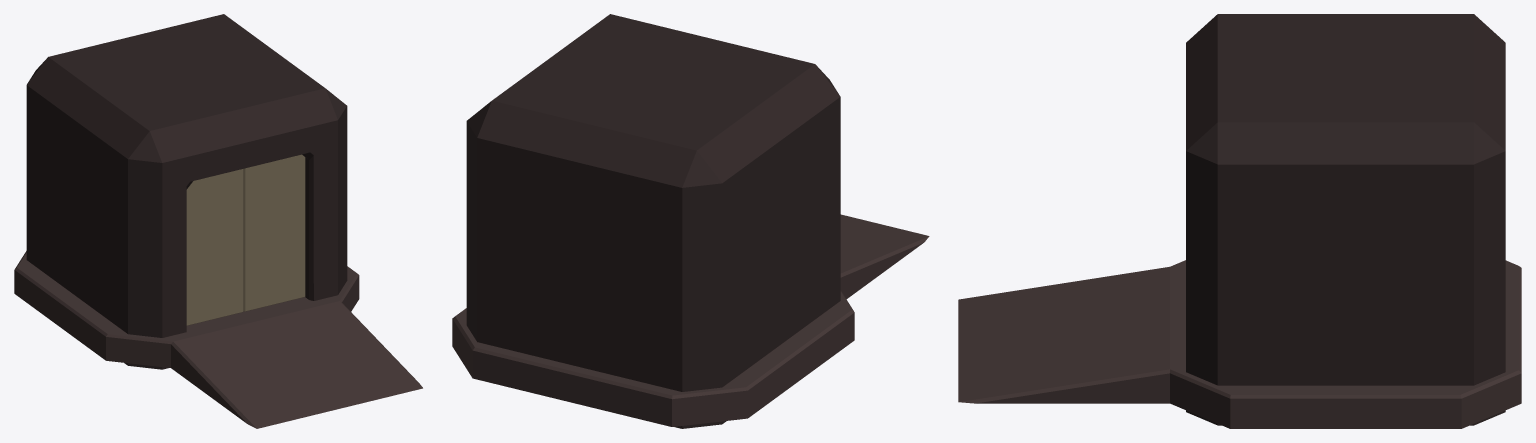
File: exit_commit.fbx
3 renders of one model, left to right at view 1: azimuth 30°, elevation 25°; view 2: azimuth 150°, elevation 25°; view 3: azimuth 270°, elevation 25°, orthographic. The views are drawn at different scales.
Visible parts, largest first — view 1: Cube; view 2: Cube; view 3: Cube.
Part boxes in pixels (box(x1,y1,x2,y2)): Cube: box(14, 14, 422, 428); Cube: box(452, 14, 929, 428); Cube: box(958, 14, 1521, 428).
Bounding box in the file's own units: 41.14 × 35.6 × 62.72.
1 material, 1 textured.
